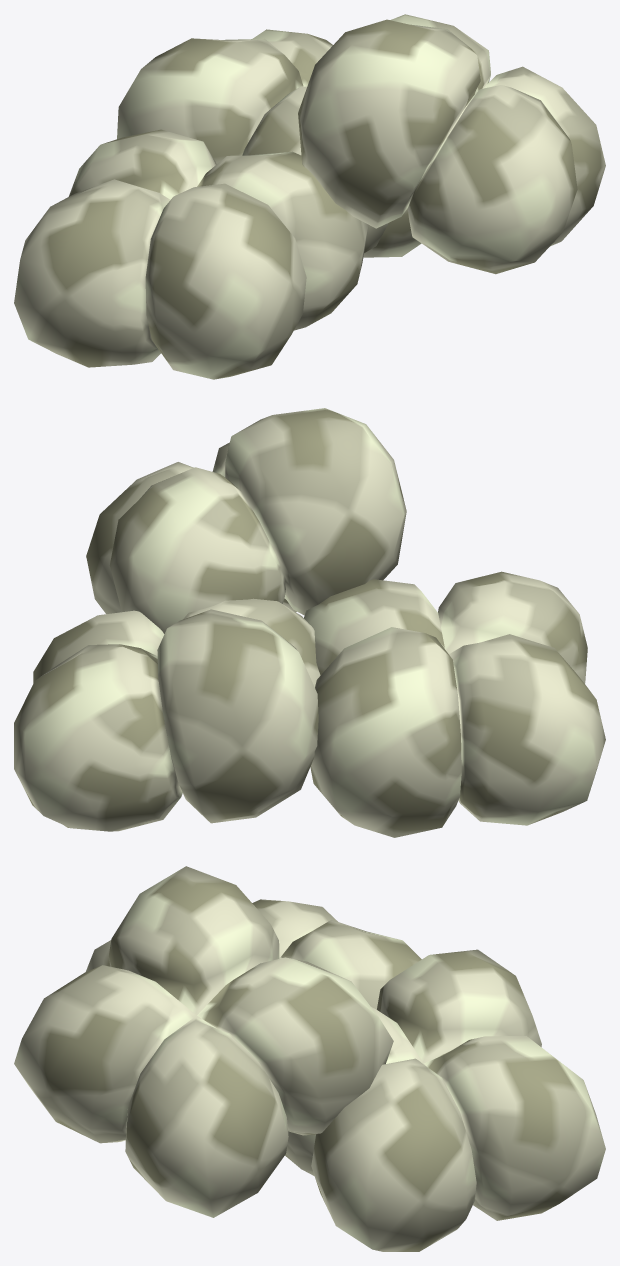
Rendered from Washed Cotton.fbx.
The picture shows the model from 3 angles, top to bottom: view 1: azimuth 30°, elevation 25°; view 2: azimuth 150°, elevation 25°; view 3: azimuth 270°, elevation 25°; orthographic projection.
Parts seen in each view (by area): view 1: Washed_Cotton; view 2: Washed_Cotton; view 3: Washed_Cotton.
Part boxes in pixels (x1,y1,x2,y2): Washed_Cotton: (14, 14, 605, 379); Washed_Cotton: (14, 408, 605, 837); Washed_Cotton: (14, 866, 605, 1251).
Bounding box in the file's own units: 18.27 × 10.2 × 17.22.
1 material, 1 textured.
